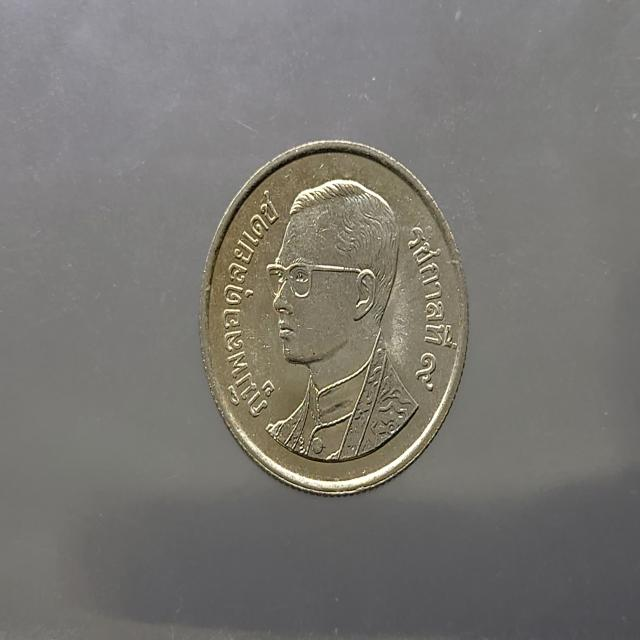1 Bath: (200, 133, 480, 506)
